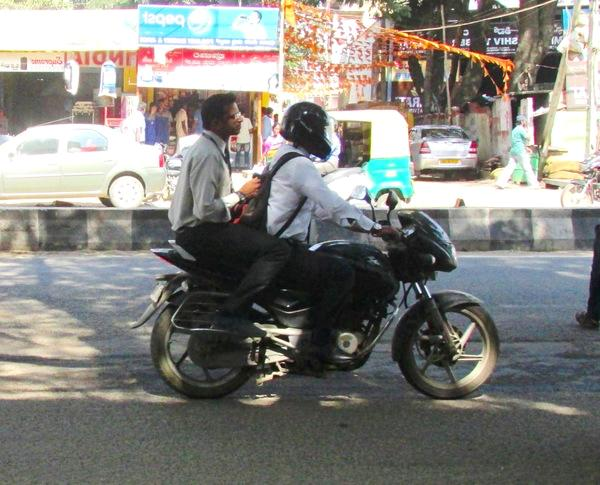With Helmet: (279, 100, 344, 162)
